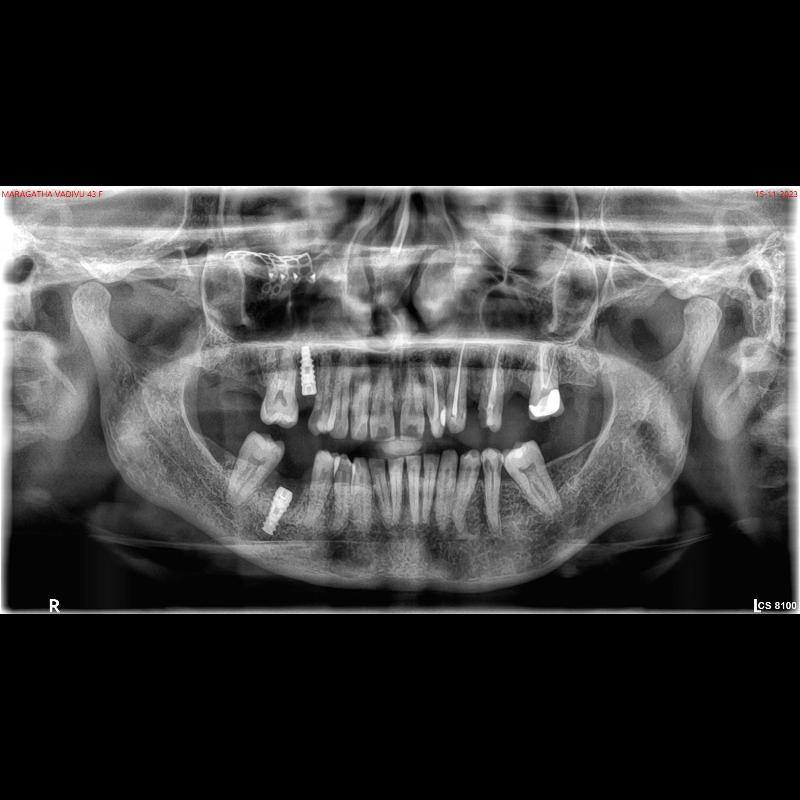NORIS: (260, 484, 295, 537), (299, 345, 317, 397)
